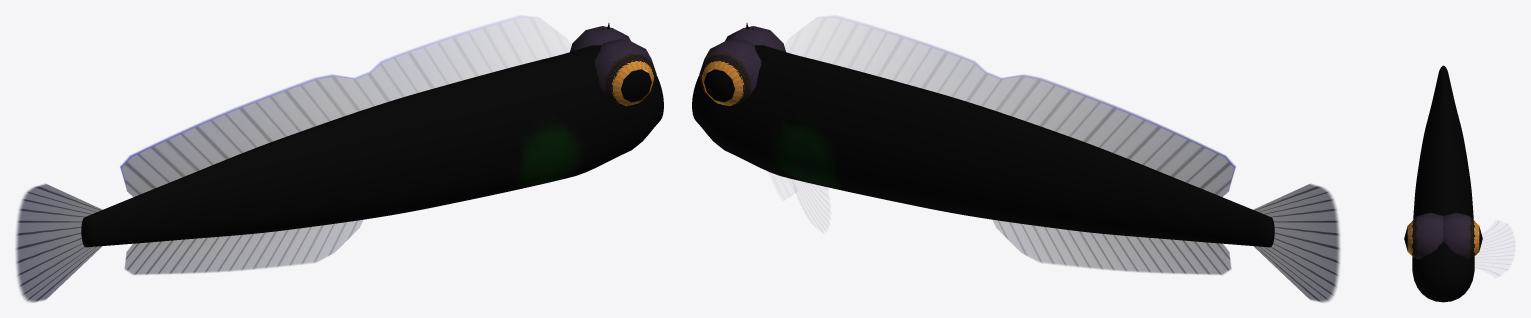
File: bicolor_blenny.glb
The picture shows the model from 3 angles, left to right: view 1: azimuth 30°, elevation 25°; view 2: azimuth 150°, elevation 25°; view 3: azimuth 270°, elevation 25°; orthographic projection. The views are drawn at different scales.
Visible parts, largest first — view 1: Body, FinDorsal, FinAnal, FinCaudal, EyeR, EyeL; view 2: Body, FinDorsal, FinAnal, FinCaudal, EyeL, EyeR; view 3: Body, EyeL, EyeR.
Part boxes in pixels (x1=…): Body: x1=81, y1=23, x2=663, y2=247; FinDorsal: x1=120, y1=19, x2=523, y2=197; FinAnal: x1=124, y1=220, x2=362, y2=274; FinCaudal: x1=15, y1=184, x2=102, y2=302; EyeR: x1=594, y1=39, x2=656, y2=106; EyeL: x1=570, y1=26, x2=630, y2=51; Body: x1=692, y1=23, x2=1274, y2=247; FinDorsal: x1=832, y1=19, x2=1235, y2=197; FinAnal: x1=993, y1=220, x2=1231, y2=274; FinCaudal: x1=1253, y1=184, x2=1340, y2=302; EyeL: x1=699, y1=39, x2=761, y2=106; EyeR: x1=725, y1=26, x2=785, y2=51; Body: x1=1412, y1=65, x2=1474, y2=302; EyeL: x1=1443, y1=212, x2=1482, y2=259; EyeR: x1=1404, y1=212, x2=1443, y2=259.
Bounding box in the file's own units: 1 × 0.2972 × 0.2681.
Materials: 4 (3 with a texture image).
